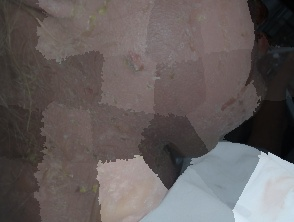SJS-TEN: (0, 0, 281, 222)
